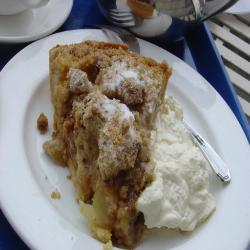apple_pie: (43, 45, 162, 245)
chantilly: (130, 106, 216, 236)
